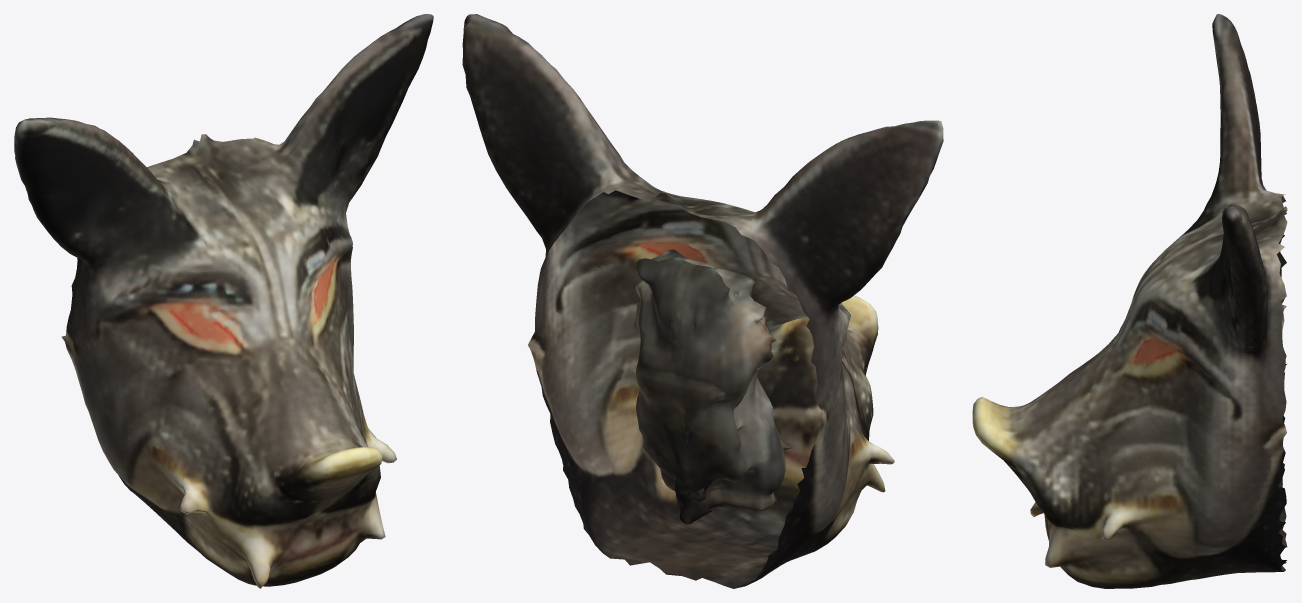
The model's file is perronegro.glb.
3 views of the same model, side by side, from view 1: azimuth 30°, elevation 25°; view 2: azimuth 150°, elevation 25°; view 3: azimuth 270°, elevation 25° (orthographic). The views are drawn at different scales.
Parts seen in each view (by area): view 1: mesh; view 2: mesh; view 3: mesh.
Part boxes in pixels (x1=…): mesh: x1=14, y1=14, x2=433, y2=588; mesh: x1=462, y1=14, x2=943, y2=588; mesh: x1=972, y1=14, x2=1287, y2=588.
Bounding box in the file's own units: 1.37 × 1.44 × 0.892.
1 material, 1 textured.
